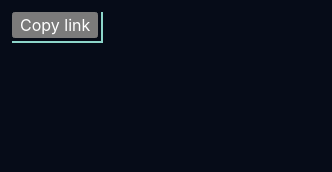
Scenario: builds a fresh link on every click and announces success only after resolution without moving focus
The image size is (332, 172).
Later steps or results of the test are not shown.
Click the button "Copy link" at (55, 25), box [12, 12, 98, 38]
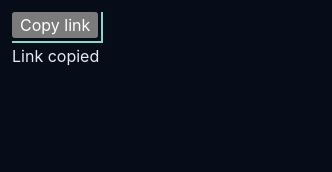
Check: the message reads "Link copied", box [12, 46, 99, 66]
